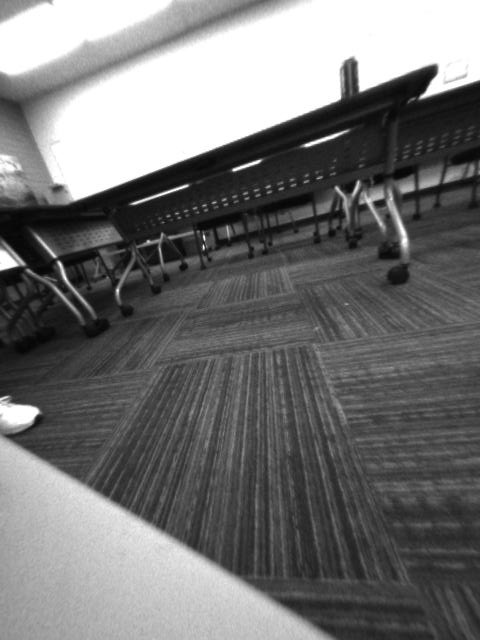can: (336, 54, 363, 101)
